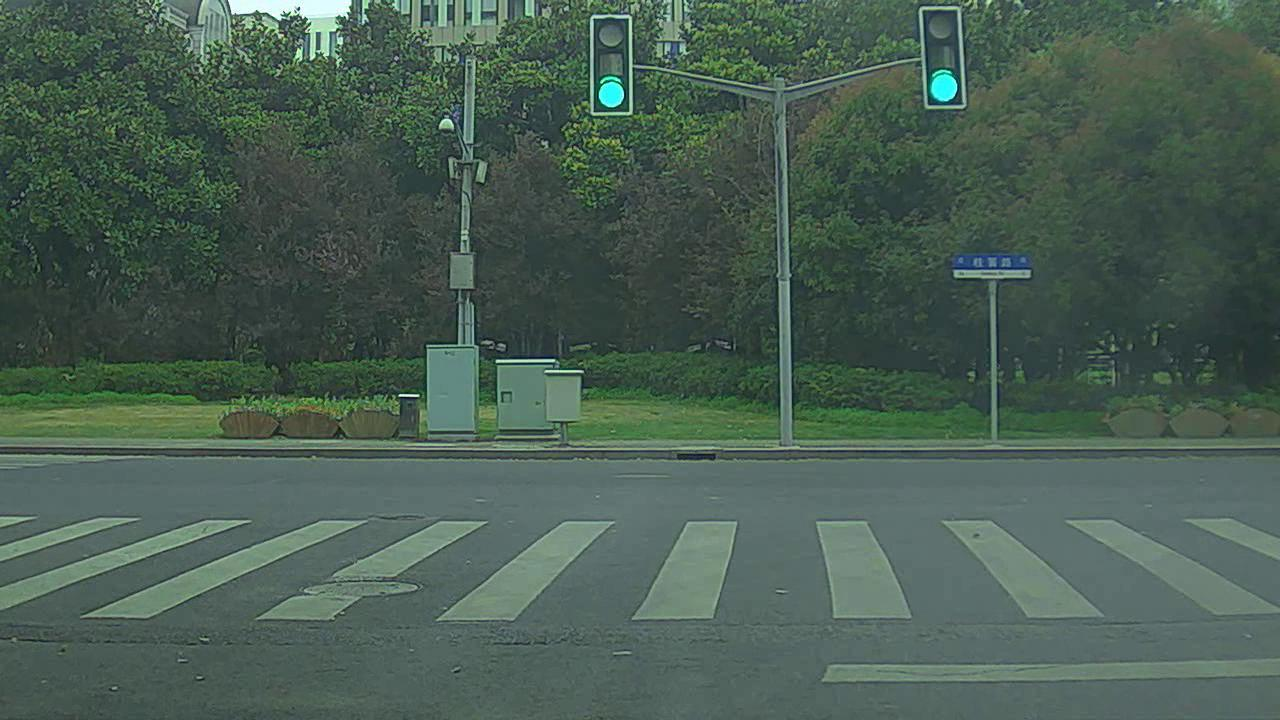traffic_light: (922, 13, 969, 110), (590, 16, 632, 120)
